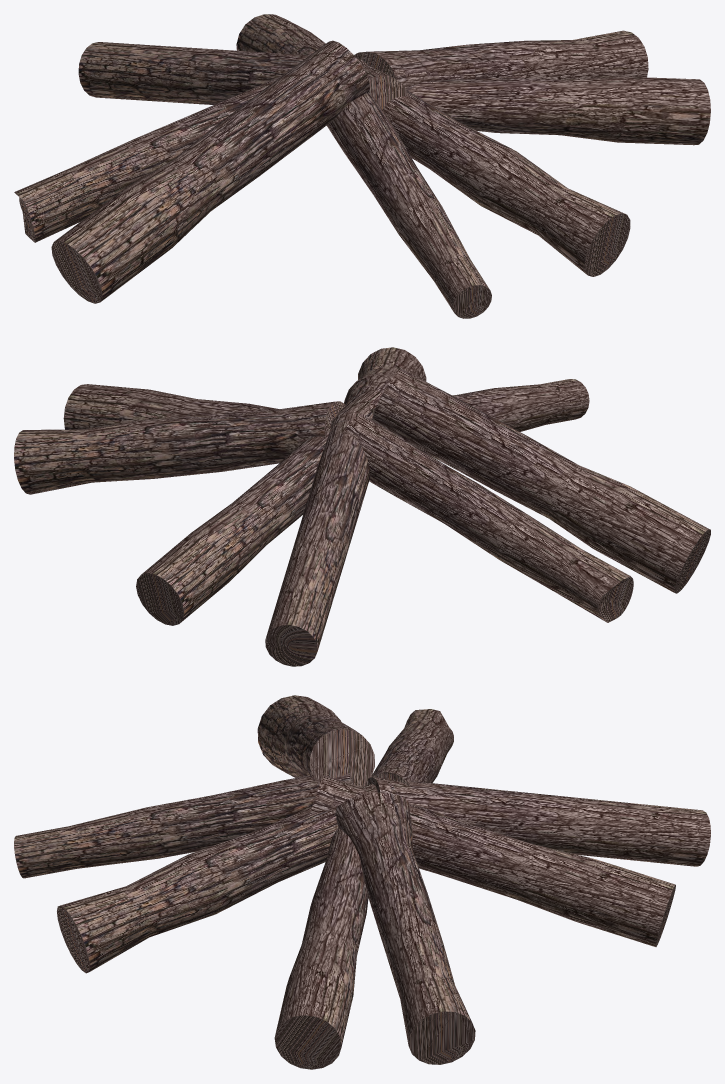
File: Bonfire.FBX
3 renders of one model, top to bottom at view 1: azimuth 30°, elevation 25°; view 2: azimuth 150°, elevation 25°; view 3: azimuth 270°, elevation 25°, orthographic. The views are drawn at different scales.
Parts seen in each view (by area): view 1: Cylinder001, Cylinder004, Cylinder005, Cylinder006, Cylinder007, Cylinder003, Cylinder002, Cylinder008; view 2: Cylinder001, Cylinder003, Cylinder002, Cylinder008, Cylinder007, Cylinder004, Cylinder006, Cylinder005; view 3: Cylinder005, Cylinder008, Cylinder003, Cylinder007, Cylinder006, Cylinder004, Cylinder001, Cylinder002.
Part boxes in pixels (x1,y1,x2,y2): Cylinder001: (51,40,369,303); Cylinder004: (408,76,710,145); Cylinder005: (361,65,630,276); Cylinder006: (326,93,491,318); Cylinder007: (78,42,367,104); Cylinder003: (354,30,648,90); Cylinder002: (14,74,283,242); Cylinder008: (236,14,408,109); Cylinder001: (372,369,710,593); Cylinder003: (14,401,346,494); Cylinder002: (342,415,633,622); Cylinder008: (136,389,382,625); Cylinder007: (265,412,371,666); Cylinder004: (63,384,279,429); Cylinder006: (370,379,589,431); Cylinder005: (329,347,426,433); Cylinder005: (57,778,398,973); Cylinder008: (310,775,675,946); Cylinder003: (335,792,475,1064); Cylinder007: (367,777,710,866); Cylinder006: (14,772,352,878); Cylinder004: (274,827,368,1069); Cylinder001: (257,695,374,786); Cylinder002: (365,709,453,786).
Bounding box in the file's own units: 81.29 × 21.2 × 74.59.
Materials: 1 (1 with a texture image).
